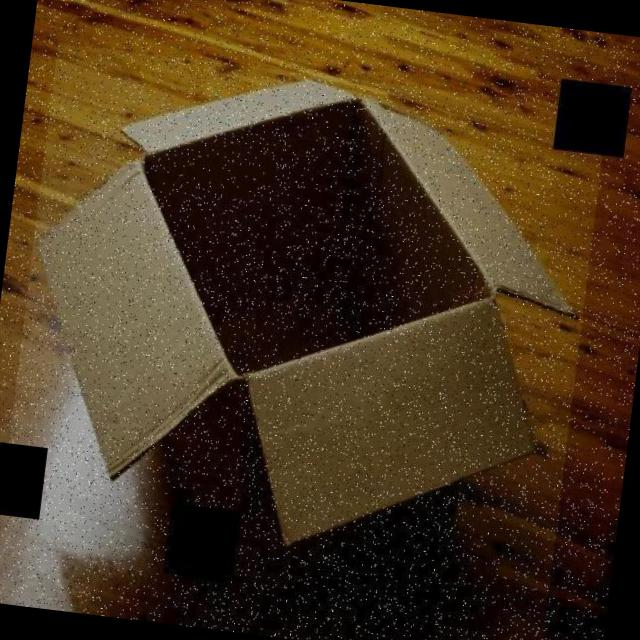box: (0, 42, 607, 640)
